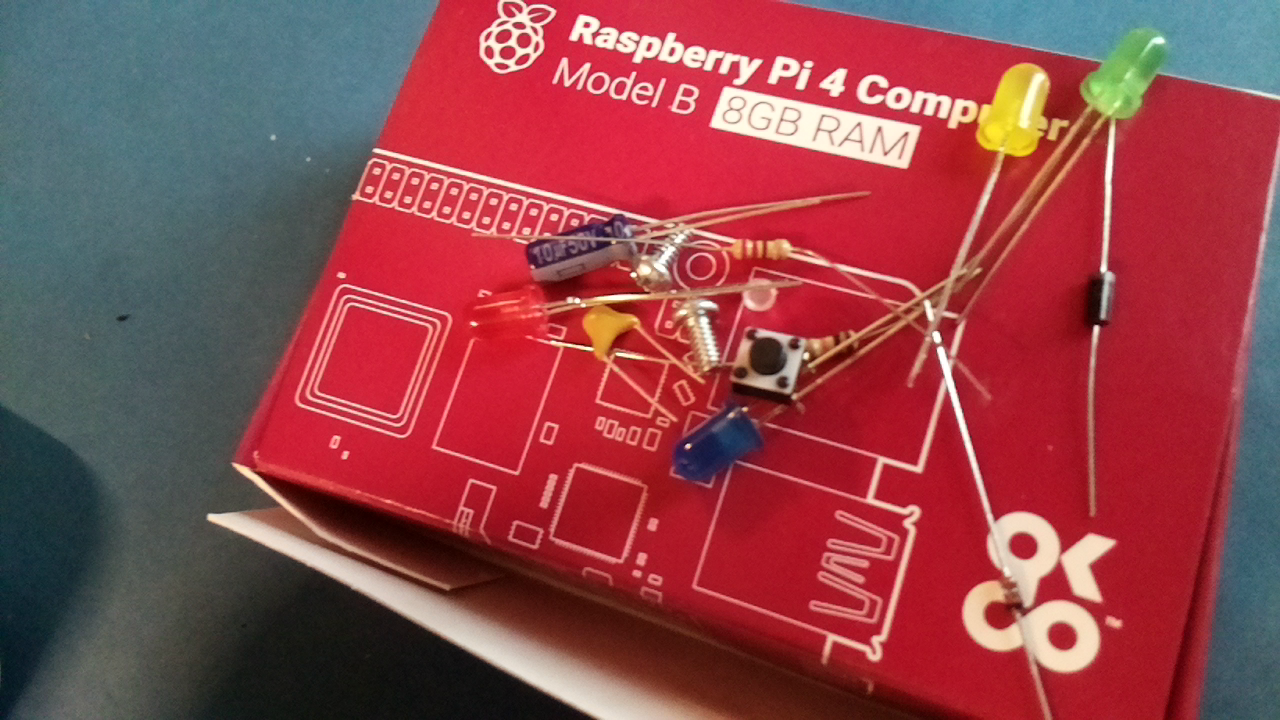button: (729, 326, 806, 407)
capacitor: (525, 212, 640, 290), (580, 302, 644, 369)
diode: (1083, 269, 1115, 330), (998, 574, 1027, 615)
led: (1077, 21, 1174, 122), (671, 398, 767, 487), (973, 58, 1047, 162), (463, 283, 555, 343)
resistor: (728, 232, 794, 264), (799, 328, 863, 360)
